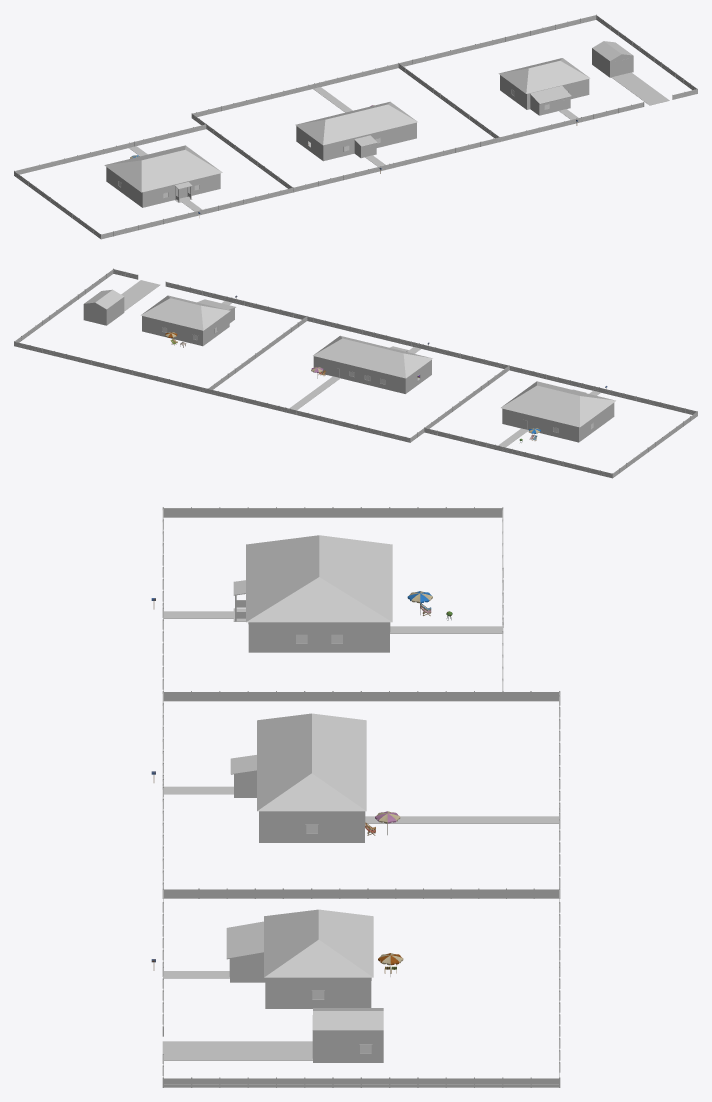
The model's file is HauseHutor03.fbx.
3 views of the same model, one above another, from view 1: azimuth 30°, elevation 25°; view 2: azimuth 150°, elevation 25°; view 3: azimuth 270°, elevation 25° (orthographic). The views are drawn at different scales.
Parts seen in each view (by area): view 1: Zabor.026, Roof, RoofHause, Zabor.001, Zabor.007, RoofHause.001, HauseE.003, HauseE.010, Garaje, HauseJ.018, Cube.001, Roof.002 (+1 smaller); view 2: Zabor.026, Roof, RoofHause, Zabor.001, Zabor.007, HauseE.003, RoofHause.001, HauseE.010, HauseJ.018, Garaje, Cube.001, Tropka.002; view 3: Roof, RoofHause, Zabor.026, RoofHause.001, Zabor.007, HauseE.010, Zabor.001, Garaje, HauseE.003, HauseJ.018, Cube.001, Tropka.002 (+3 smaller).
Boxes of the visible parts, box(x1,y1,x2,y2) form: Zabor.026: box(191, 62, 500, 192); Roof: box(104, 145, 222, 192); RoofHause: box(295, 101, 417, 145); Zabor.001: box(14, 124, 292, 239); Zabor.007: box(399, 14, 697, 141); RoofHause.001: box(498, 58, 590, 93); HauseE.003: box(296, 122, 416, 160); HauseE.010: box(106, 167, 220, 207); Garaje: box(592, 41, 633, 77); HauseJ.018: box(500, 75, 589, 109); Cube.001: box(611, 72, 669, 105); Roof.002: box(530, 85, 571, 104); Zabor.026: box(207, 316, 509, 442); Roof: box(501, 381, 615, 427); RoofHause: box(313, 335, 432, 378); Zabor.001: box(424, 366, 697, 478); Zabor.007: box(14, 268, 306, 393); HauseE.003: box(313, 356, 431, 393); RoofHause.001: box(140, 295, 230, 330); HauseE.010: box(502, 402, 614, 442); HauseJ.018: box(142, 312, 229, 345); Garaje: box(83, 289, 124, 325); Cube.001: box(121, 280, 160, 311); Tropka.002: box(289, 376, 340, 410); Roof: box(246, 535, 392, 622); RoofHause: box(257, 713, 366, 811); Zabor.026: box(162, 691, 560, 898); RoofHause.001: box(264, 909, 373, 977); Zabor.007: box(162, 889, 560, 1087); HauseE.010: box(248, 622, 390, 652); Zabor.001: box(162, 507, 503, 690); Garaje: box(312, 1008, 383, 1062); HauseE.003: box(259, 811, 365, 842); HauseJ.018: box(265, 977, 371, 1008); Cube.001: box(162, 1041, 312, 1060); Tropka.002: box(365, 816, 558, 823).
Size of the model in its own units: 15287 by 758 by 4626.
